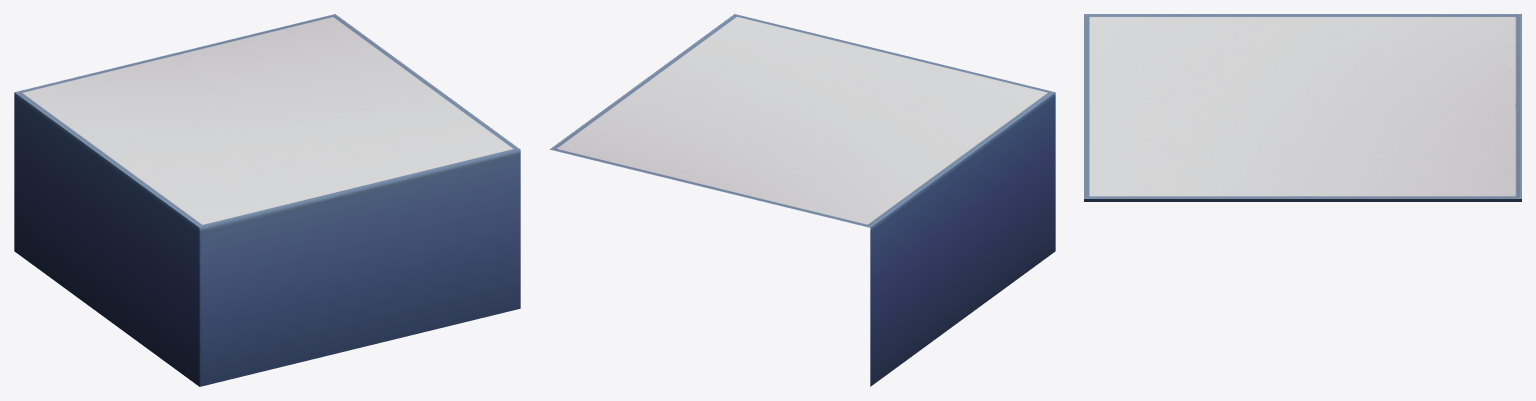
Rendered from my_gamecenter_01_p_tile_01.glb.
3 renders of one model, left to right at view 1: azimuth 30°, elevation 25°; view 2: azimuth 150°, elevation 25°; view 3: azimuth 270°, elevation 25°, orthographic. The views are drawn at different scales.
Visible parts, largest first — view 1: my_gamecenter_01_p_tile_01; view 2: my_gamecenter_01_p_tile_01; view 3: my_gamecenter_01_p_tile_01.
Boxes of the visible parts, <box> form: my_gamecenter_01_p_tile_01: <box>14,14,520,386</box>; my_gamecenter_01_p_tile_01: <box>550,14,1055,386</box>; my_gamecenter_01_p_tile_01: <box>1084,14,1521,201</box>.
Size of the model in its own units: 0.006 by 0.00284 by 0.006.
1 material, 1 textured.
